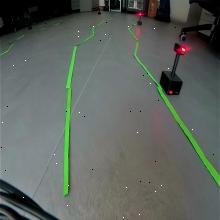red: (173, 42, 187, 56)
